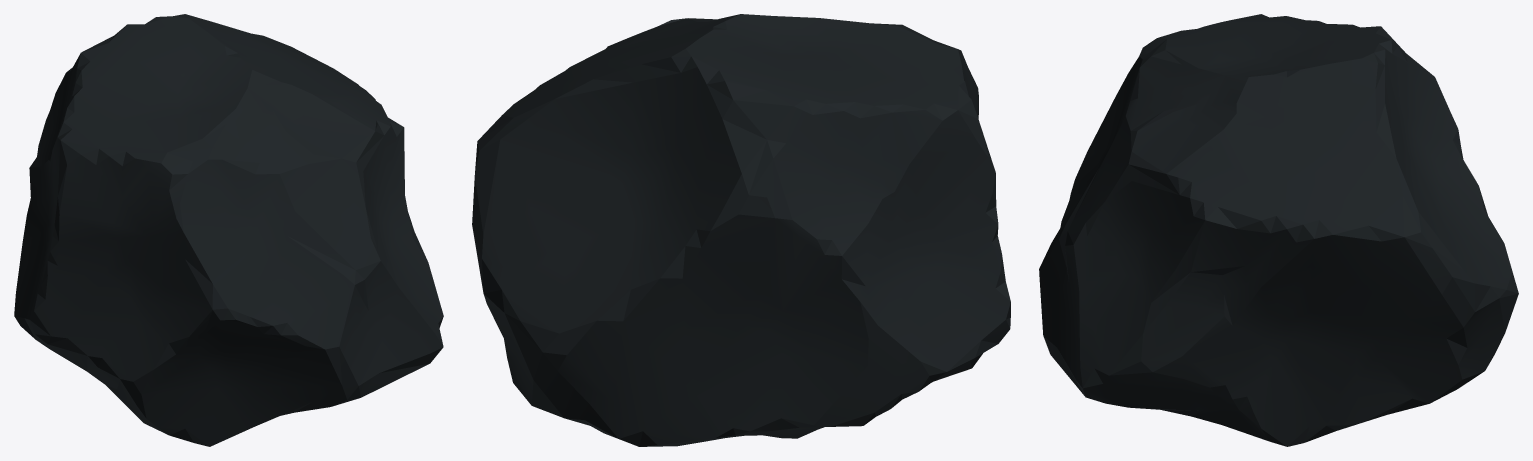
The model's file is Asteroid_l_04.FBX.
3 renders of one model, left to right at view 1: azimuth 30°, elevation 25°; view 2: azimuth 150°, elevation 25°; view 3: azimuth 270°, elevation 25°, orthographic. The views are drawn at different scales.
Visible parts, largest first — view 1: Asteroid_l_04; view 2: Asteroid_l_04; view 3: Asteroid_l_04.
Part boxes in pixels (box(x1,y1,x2,y2)): Asteroid_l_04: box(14, 14, 443, 446); Asteroid_l_04: box(472, 14, 1010, 446); Asteroid_l_04: box(1039, 14, 1518, 446).
Bounding box in the file's own units: 1131 × 1028 × 1233.
